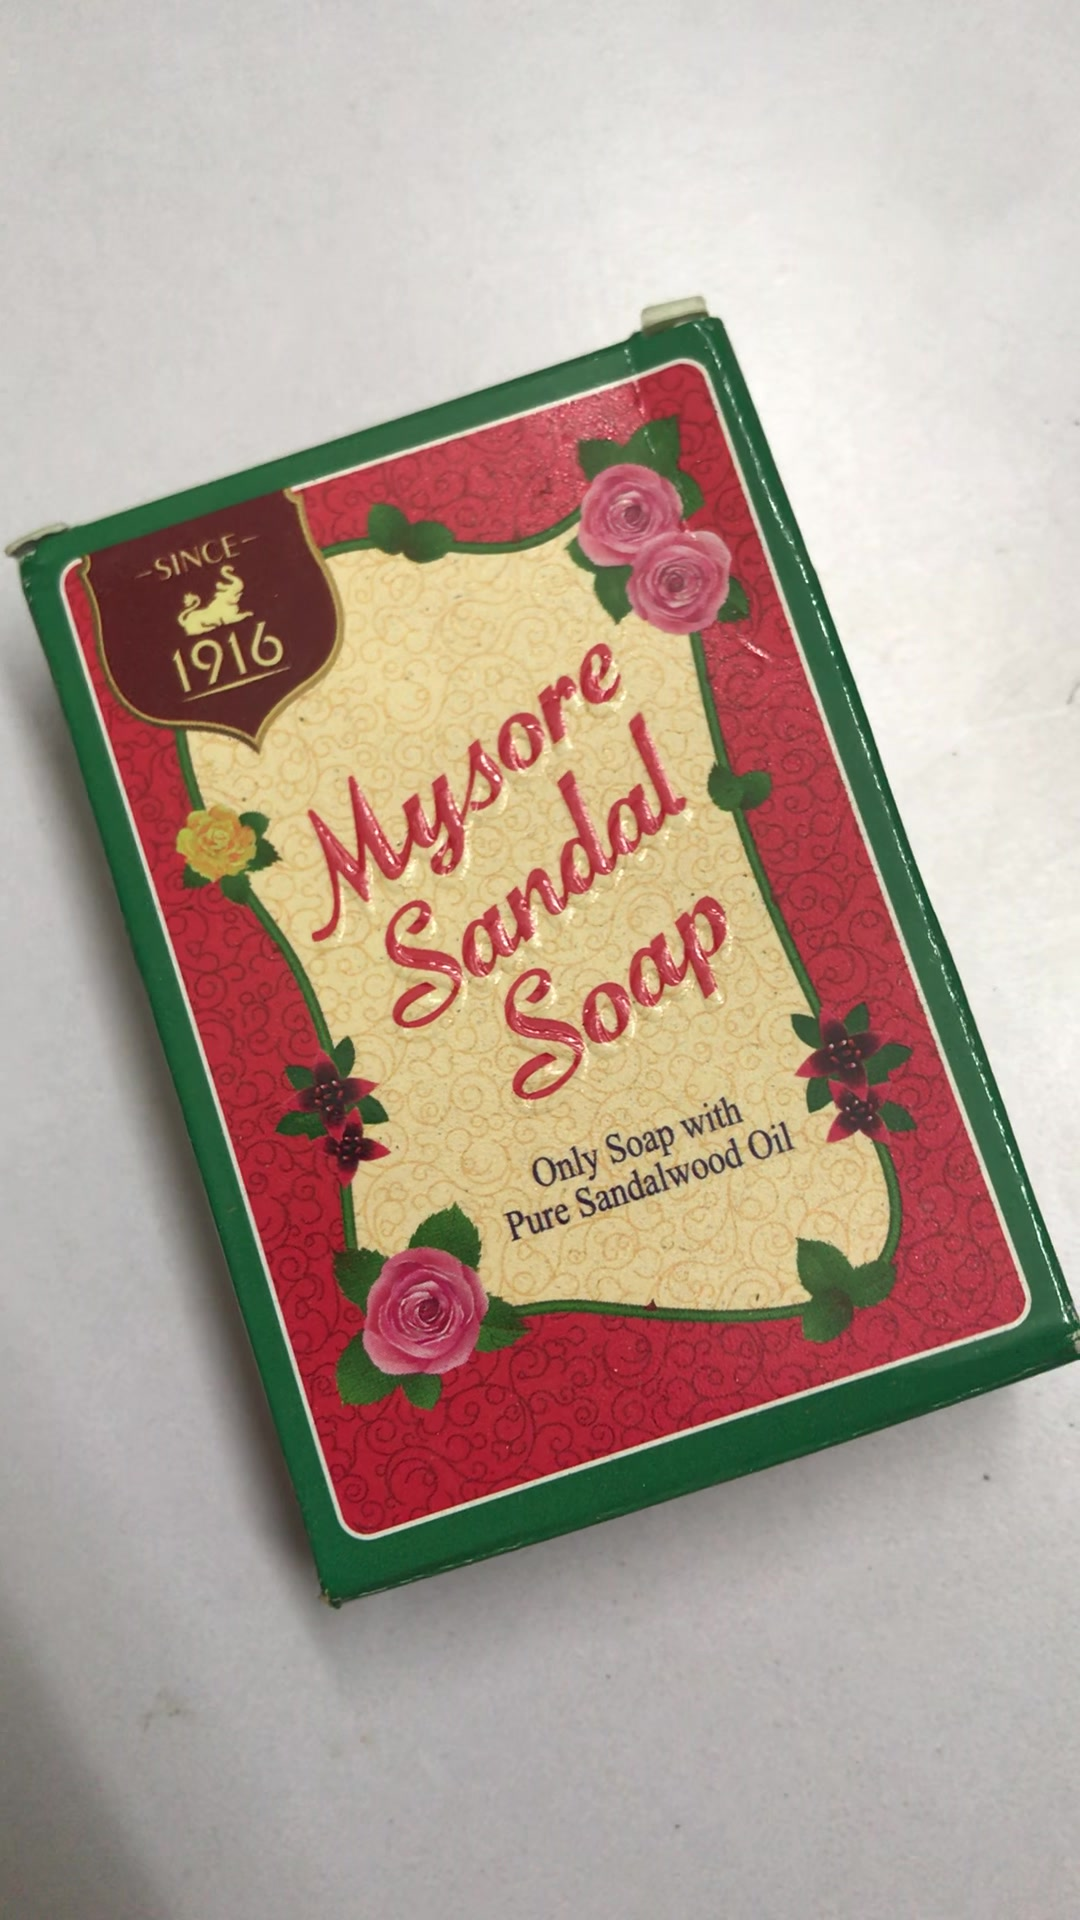mysore sandal soap: (13, 316, 1080, 1602)
